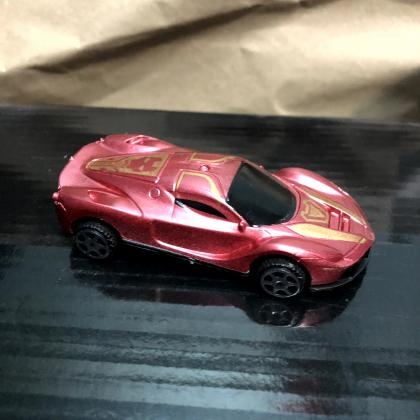Car: (52, 134, 376, 303)
